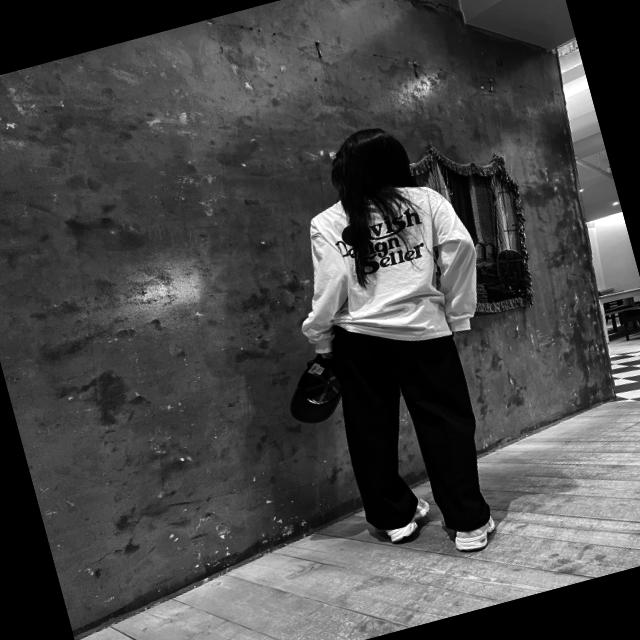longsleeve: (268, 166, 496, 378)
slacks: (312, 296, 501, 557)
